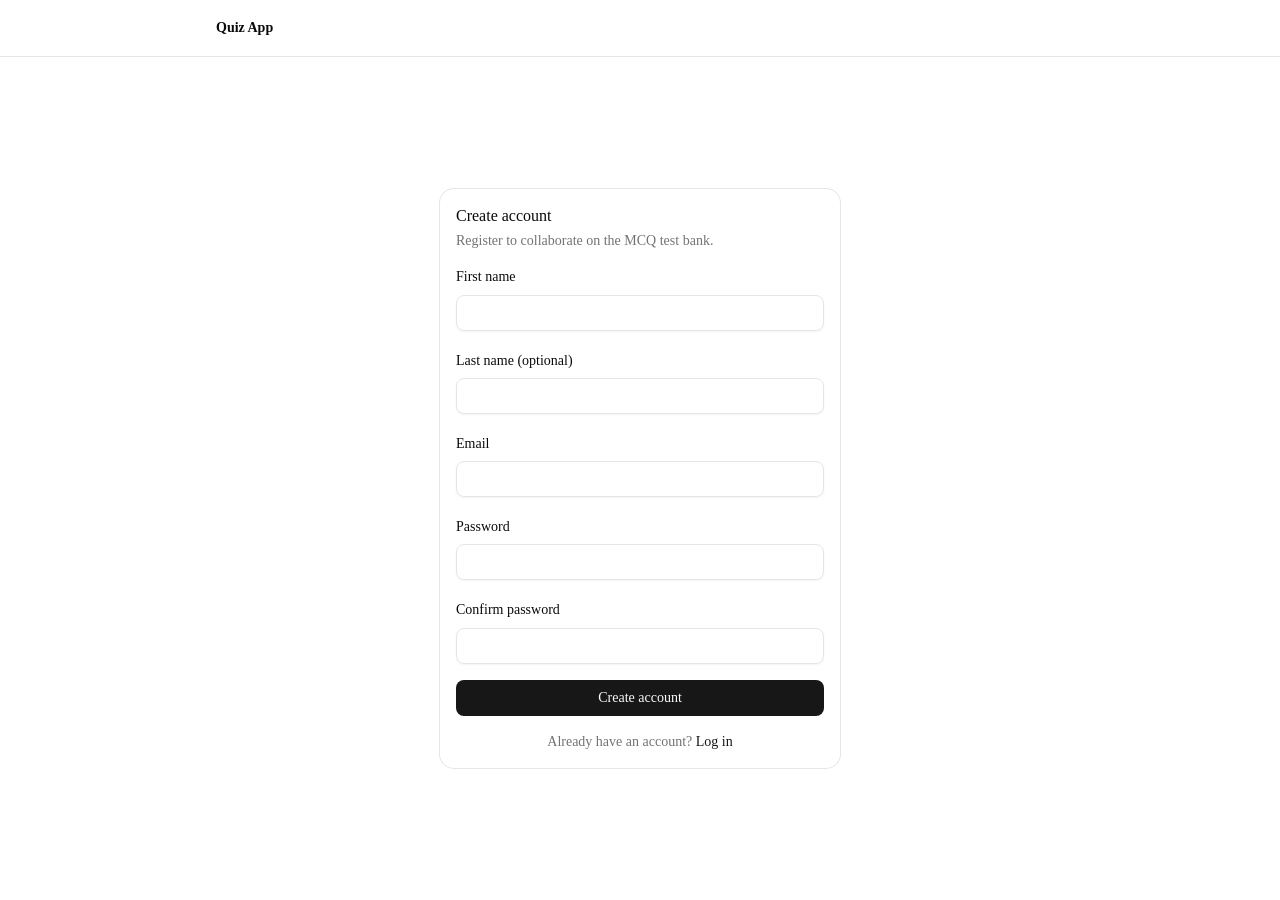
Test case: RegisterForm › shows validation error when passwords do not match
Type "Jane" into the field labelled "First name" at (640,313), box [456,295,824,331]
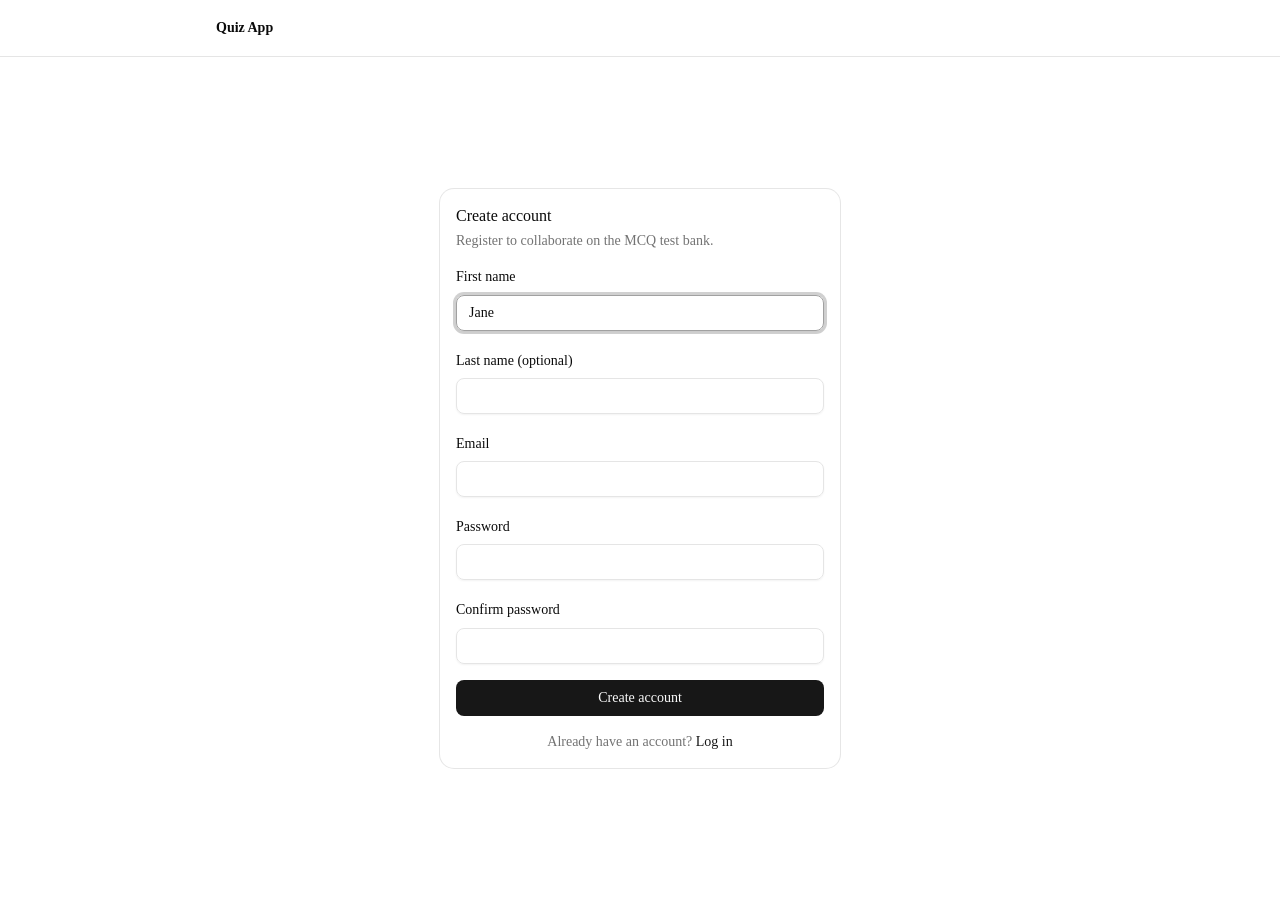
Type "jane@example.com" into the field labelled "Email" at (640,479), box [456,461,824,497]
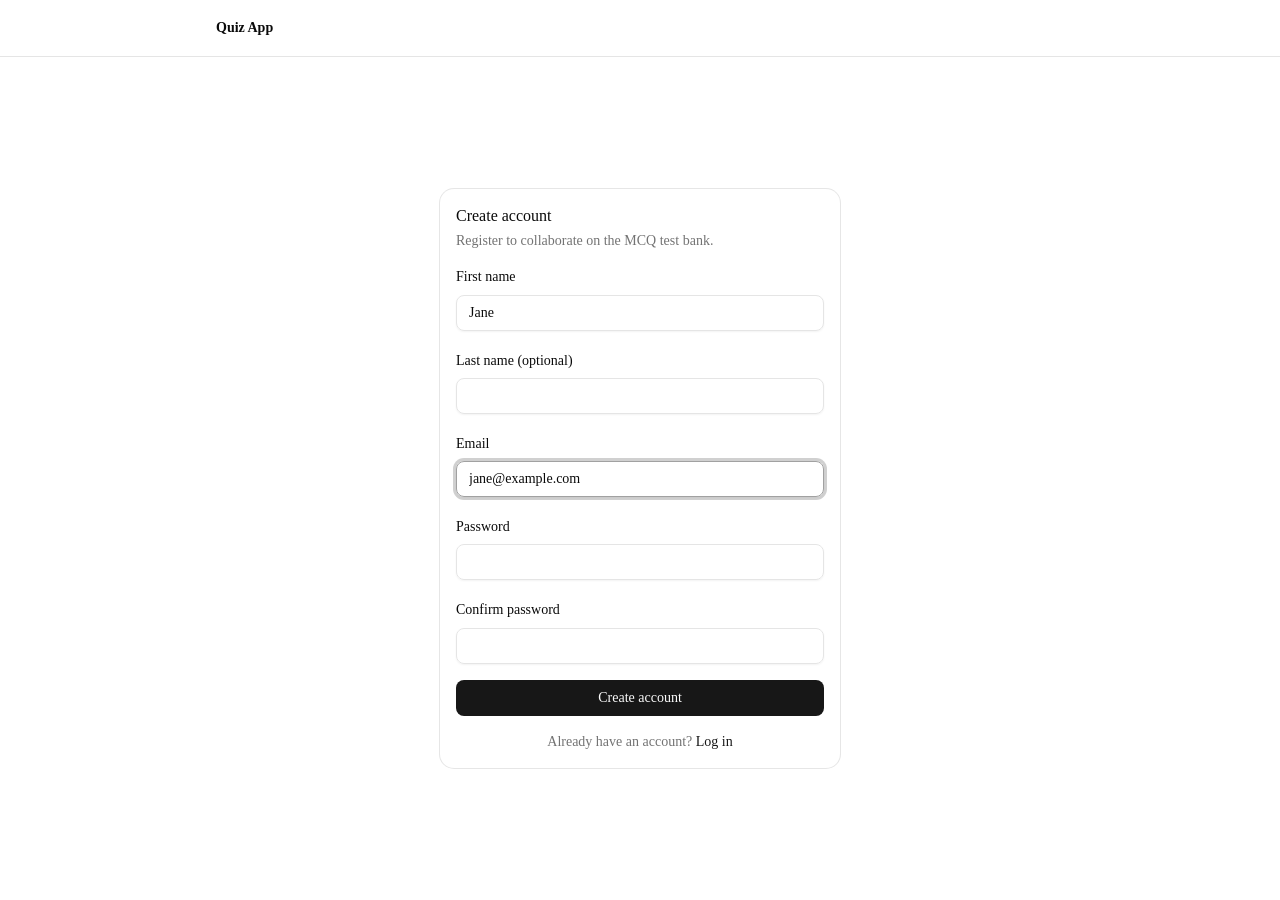
Type "securePass123" into the password field labelled "Password" at (640,562), box [456,544,824,580]
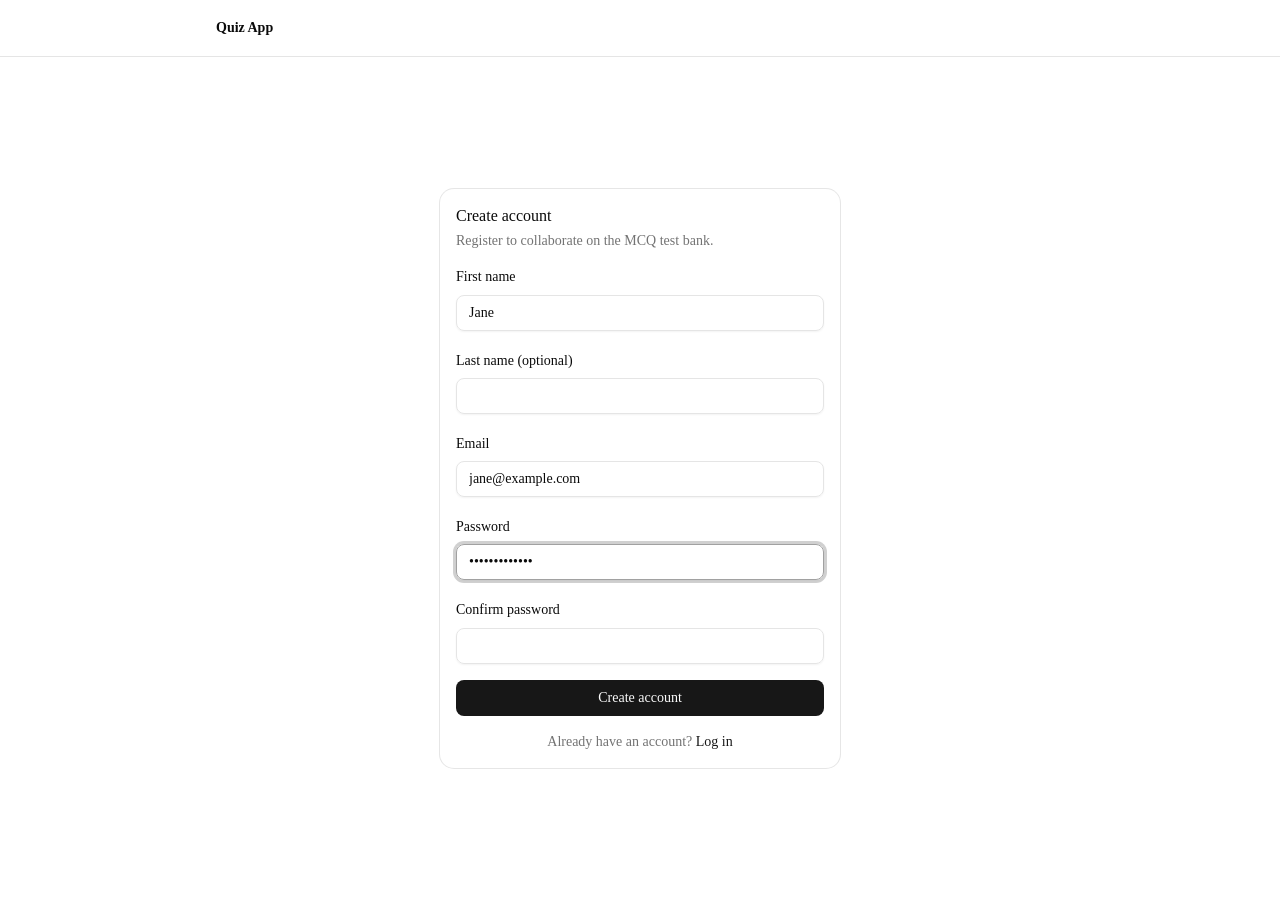
Type "differentPass" into the password field labelled "Confirm password" at (640,646), box [456,628,824,664]
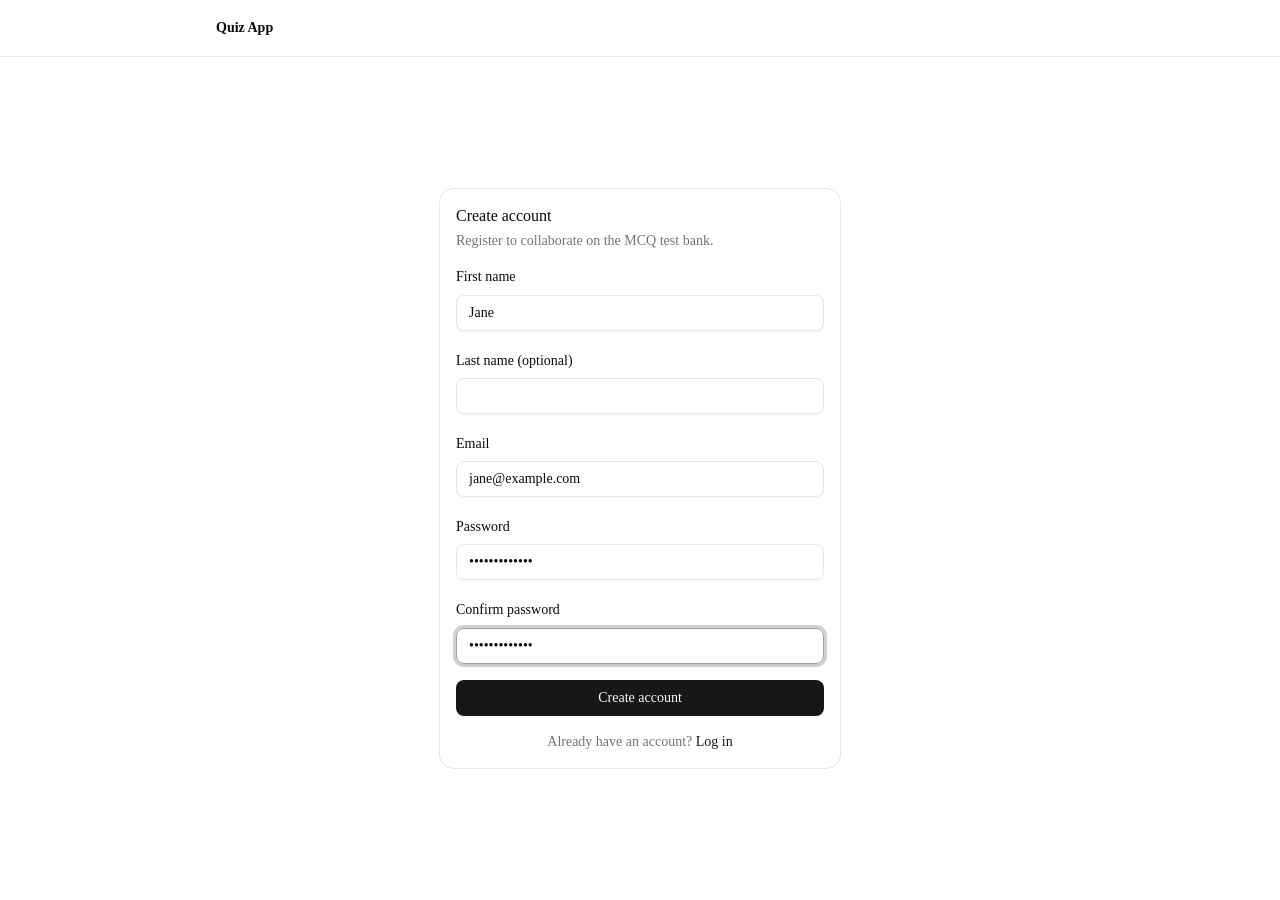
Click the button "Create account" at (640,698), box [456,680,824,716]
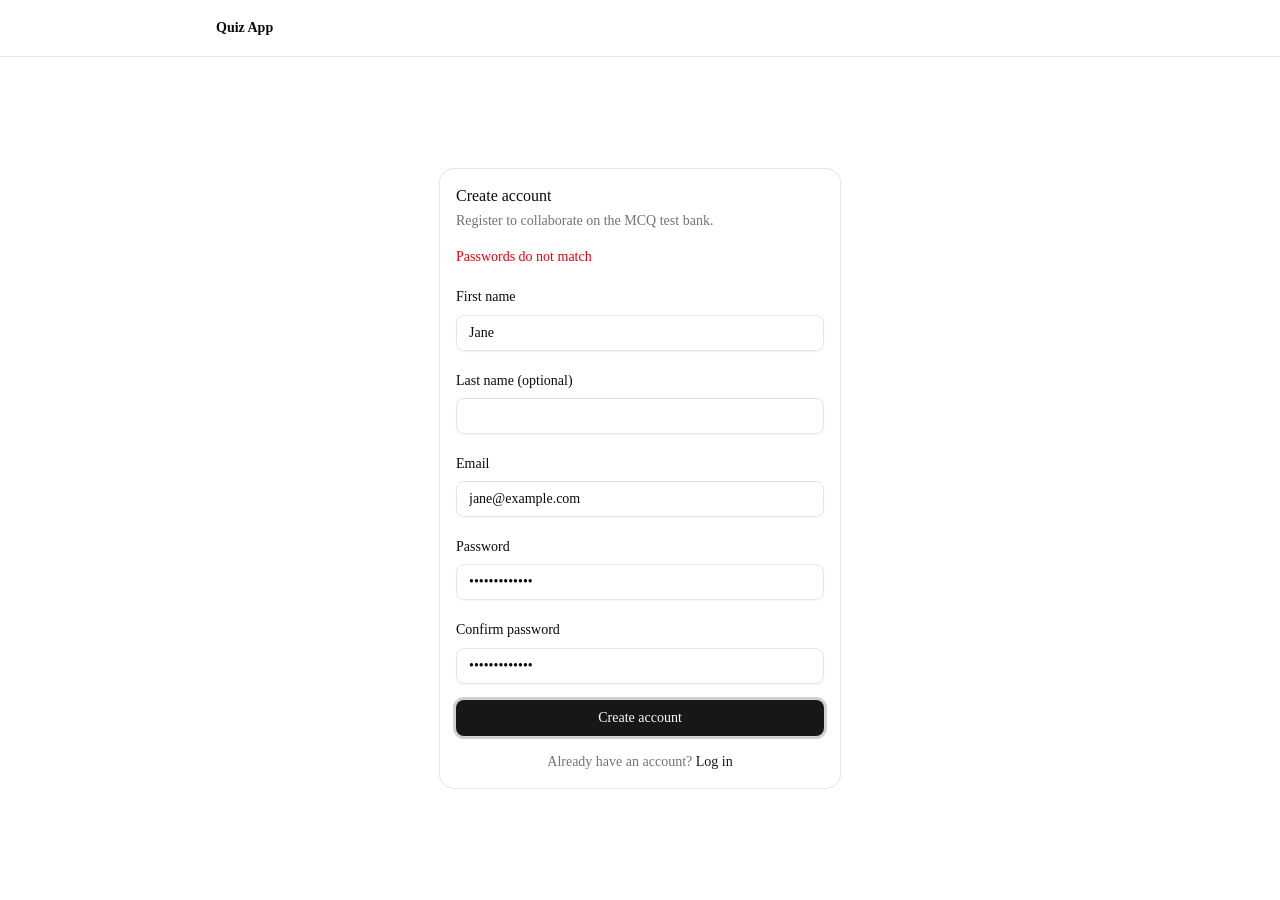
Now the message reads "Passwords do not match", box [456,249,592,264]
